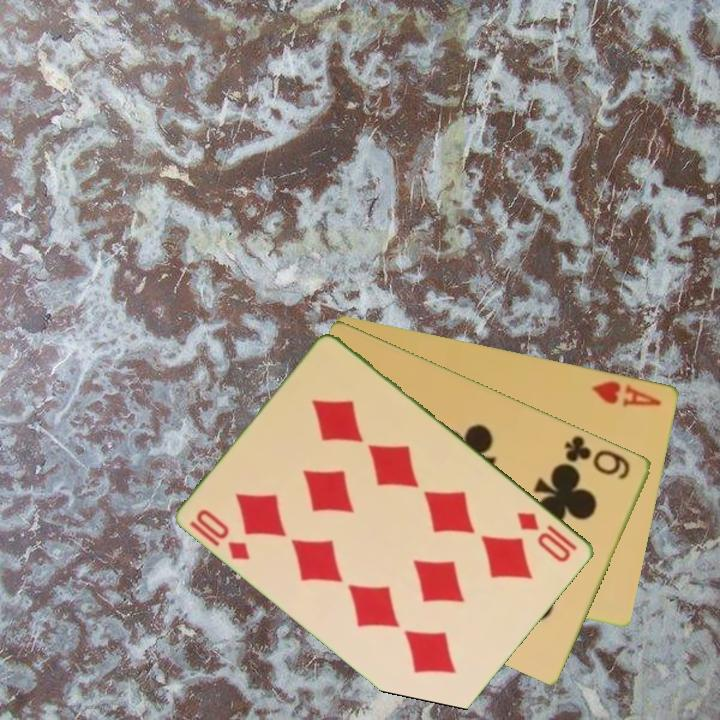10d: (513, 508, 581, 566), (193, 505, 254, 563)
6c: (561, 432, 634, 483)
Ah: (589, 377, 664, 410)
